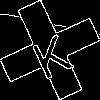K: (25, 25, 75, 81)
